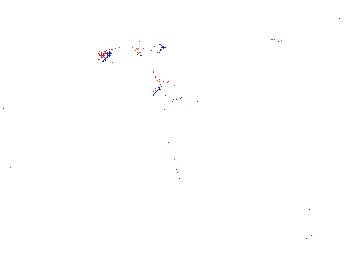glassfish: (151, 126, 187, 197), (120, 202, 175, 230)
redtail glassfish: (97, 39, 165, 65), (215, 25, 284, 47), (149, 68, 182, 106), (319, 17, 346, 39)
